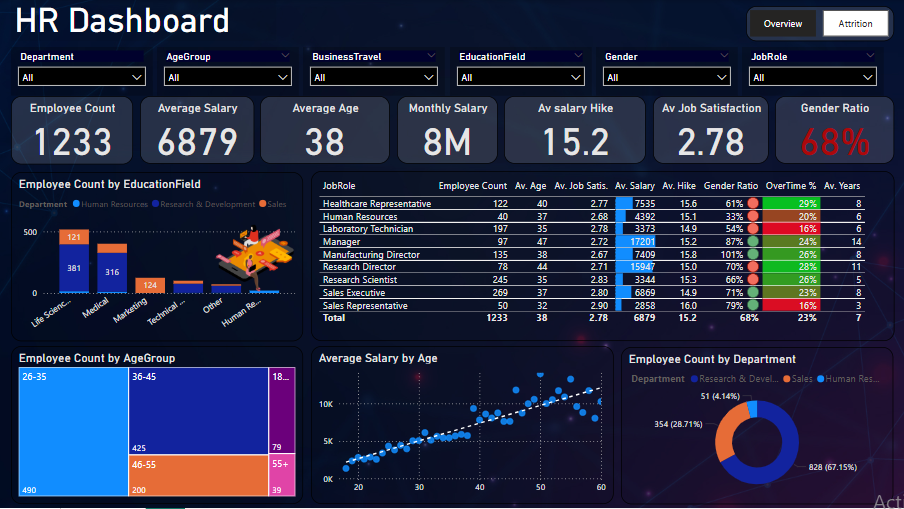

This screenshot's page, from the dashboard's own definition file:
{"tool":"powerbi","page":{"name":"Overview","canvas":[1280,720],"ordinal":0},"visuals":[{"type":"slicer","title":"Department","fields":{"Values":["HR_Analytics.Department"]},"box":[15.6,66.6,201.3,69.4],"z":0},{"type":"slicer","title":"Department","fields":{"Values":["HR_Analytics.AgeGroup"]},"box":[222.8,66.6,201.3,69.4],"z":1000},{"type":"slicer","title":"Department","fields":{"Values":["HR_Analytics.BusinessTravel"]},"box":[430,66.6,201.3,69.4],"z":2000},{"type":"slicer","title":"Department","fields":{"Values":["HR_Analytics.EducationField"]},"box":[637.2,66.6,201.3,69.4],"z":3000},{"type":"slicer","title":"Department","fields":{"Values":["HR_Analytics.Gender"]},"box":[844.4,66.6,201.3,69.4],"z":4000},{"type":"slicer","title":"Department","fields":{"Values":["HR_Analytics.JobRole"]},"box":[1051.7,66.6,201.3,69.4],"z":5000},{"type":"card","title":"Employee Count","fields":{"Values":["HR_Analytics.Employee Count"]},"box":[16.1,136,172.6,96.5],"z":6000},{"type":"card","title":"Gender Ratio","fields":{"Values":["HR_Analytics.Gender Ratio"]},"box":[1098.4,136.1,168.7,96.4],"z":7000},{"type":"card","title":"Average Salary","fields":{"Values":["HR_Analytics.Average Salary"]},"box":[197.7,136.1,161.6,96.4],"z":8000},{"type":"card","title":"Average Age","fields":{"Values":["HR_Analytics.Average Age"]},"box":[368.5,136.1,184.3,96.4],"z":9000},{"type":"card","title":"Monthly Salary","fields":{"Values":["HR_Analytics.Monthly Salary"]},"box":[562,136.1,143.1,96.4],"z":10000},{"type":"card","title":"Av salary Hike","fields":{"Values":["HR_Analytics.Average Salary Hike"]},"box":[714.3,136.1,201.3,96.4],"z":11000},{"type":"card","title":"Av Job Satisfaction","fields":{"Values":["HR_Analytics.Average Job Satisfaction"]},"box":[924.8,136.1,164.4,96.4],"z":12000},{"type":"columnChart","title":"Employee Count by EducationField ","fields":{"Category":["HR_Analytics.EducationField"],"Y":["HR_Analytics.Employee Count"],"Series":["HR_Analytics.Department"]},"box":[15.6,243.8,413.9,239.5],"z":13000},{"type":"treemap","fields":{"Values":["HR_Analytics.Employee Count"],"Group":["HR_Analytics.AgeGroup"]},"box":[15.6,490.4,413.9,223.9],"z":14000},{"type":"tableEx","fields":{"Values":["HR_Analytics.JobRole","HR_Analytics.Employee Count","HR_Analytics.Average Age","HR_Analytics.Average Job Satisfaction","HR_Analytics.Average Salary","HR_Analytics.Average Salary Hike","HR_Analytics.Gender Ratio","HR_Analytics.OverTime %","HR_Analytics.Average Years"]},"box":[440.3,242.8,826.5,241.4],"z":15000},{"type":"scatterChart","fields":{"X":["HR_Analytics.Age"],"Y":["HR_Analytics.Average Salary"]},"box":[440.8,490.4,429.4,223.9],"z":16000},{"type":"donutChart","fields":{"Category":["HR_Analytics.Department"],"Y":["HR_Analytics.Employee Count"]},"box":[880.8,491.5,386,222.7],"z":17000},{"type":"pageNavigator","box":[1057.3,8.5,209.8,49.6],"z":17001},{"type":"textbox","title":"HR Dashboard","box":[15.6,0,375.6,58.1],"z":17002},{"type":"image","box":[252.3,282,231,154.5],"z":17003}]}

Visuals, with their boxes in screenshot pixels (x1, y1, x2, y2), scaled from the page's 1280x720 canvas onto the 904x509 screenshot:
"Department" slicer: x1=11, y1=47, x2=153, y2=96
"Department" slicer: x1=157, y1=47, x2=300, y2=96
"Department" slicer: x1=304, y1=47, x2=446, y2=96
"Department" slicer: x1=450, y1=47, x2=592, y2=96
"Department" slicer: x1=596, y1=47, x2=739, y2=96
"Department" slicer: x1=743, y1=47, x2=885, y2=96
"Employee Count" card: x1=11, y1=96, x2=133, y2=164
"Gender Ratio" card: x1=776, y1=96, x2=895, y2=164
"Average Salary" card: x1=140, y1=96, x2=254, y2=164
"Average Age" card: x1=260, y1=96, x2=390, y2=164
"Monthly Salary" card: x1=397, y1=96, x2=498, y2=164
"Av salary Hike" card: x1=504, y1=96, x2=647, y2=164
"Av Job Satisfaction" card: x1=653, y1=96, x2=769, y2=164
"Employee Count by EducationField " columnChart: x1=11, y1=172, x2=303, y2=342
treemap - HR_Analytics.Employee Count x HR_Analytics.AgeGroup: x1=11, y1=347, x2=303, y2=505
tableEx - HR_Analytics.JobRole x HR_Analytics.Employee Count: x1=311, y1=172, x2=895, y2=342
scatterChart - HR_Analytics.Age x HR_Analytics.Average Salary: x1=311, y1=347, x2=615, y2=505
donutChart - HR_Analytics.Department x HR_Analytics.Employee Count: x1=622, y1=347, x2=895, y2=505
pageNavigator: x1=747, y1=6, x2=895, y2=41
"HR Dashboard" textbox: x1=11, y1=0, x2=276, y2=41
image: x1=178, y1=199, x2=341, y2=309
